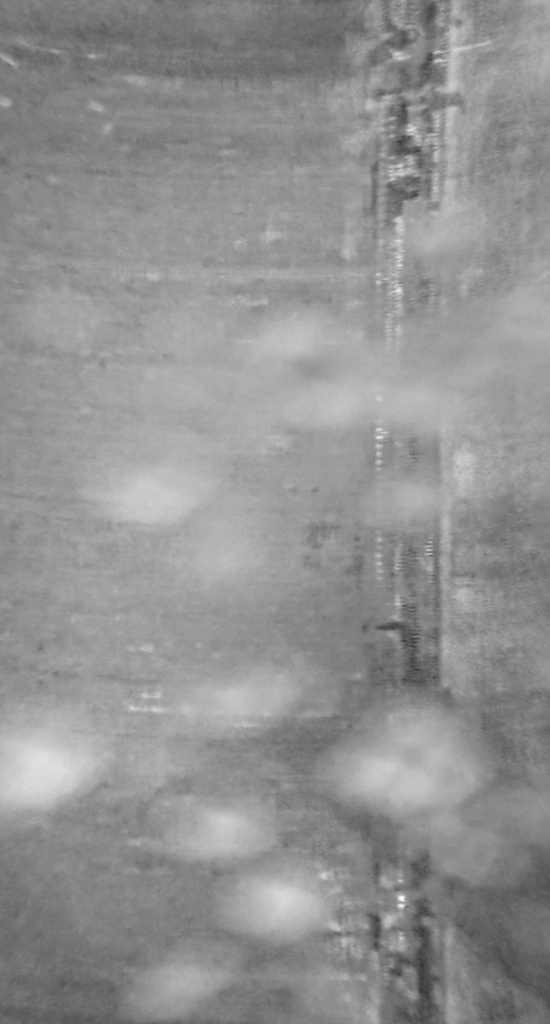splice: (367, 1, 464, 1023)
